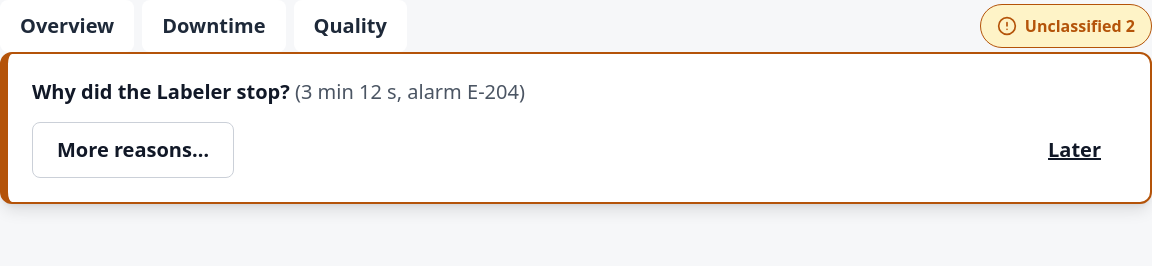
Test case: prompts after a line stop › shows the prompt when the stop ends; Later keeps the stop in the queue
The image size is (1152, 266).
Check: the link with test id "unclassified-badge" reads "Unclassified 2", box [980,4,1151,48]
Check: the text "Why did the Labeler stop? (3 min 12 s, alarm E-204)" is shown, box [32,78,525,105]
Click the button "Later". click: (1074, 150)
box: [1023,122,1126,178]
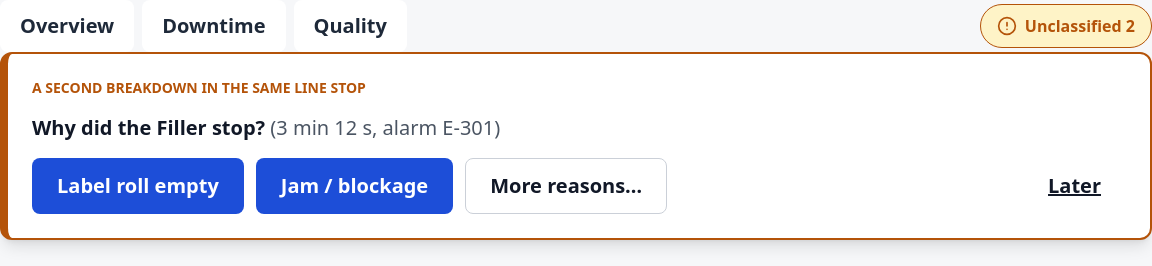
Check: the link with test id "unclassified-badge" reads "Unclassified 2", box [980,4,1151,48]
Check: the text "Why did the Filler stop? (3 min 12 s, alarm E-301)" is shown, box [32,114,500,141]
Check: the text "A second breakdown in the same line stop" is shown, box [32,78,366,97]
